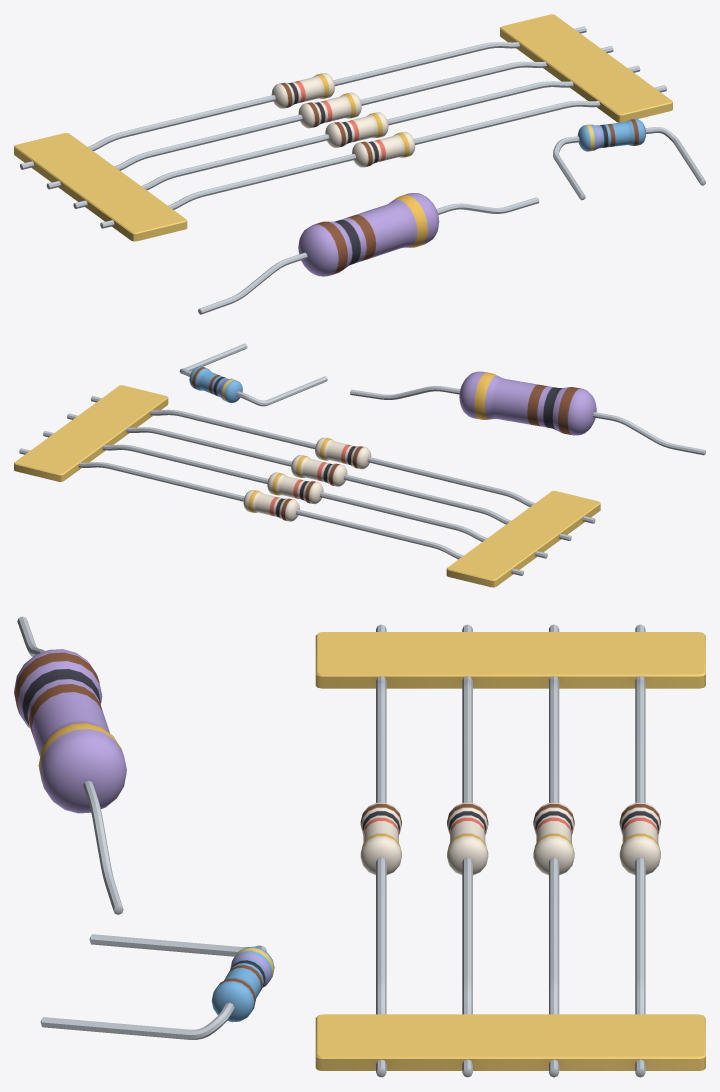
File: resistor.glb
3 views of the same model, one above another, from view 1: azimuth 30°, elevation 25°; view 2: azimuth 150°, elevation 25°; view 3: azimuth 270°, elevation 25° (orthographic). The views are drawn at different scales.
Parts seen in each view (by area): view 1: resistor_body; view 2: resistor_body; view 3: resistor_body.
Boxes of the visible parts, <box> form: resistor_body: <box>14,14,705,314</box>; resistor_body: <box>14,343,705,587</box>; resistor_body: <box>14,616,705,1077</box>.
Bounding box in the file's own units: 0.0625 × 0.00496 × 0.0401.
1 material, 1 textured.
